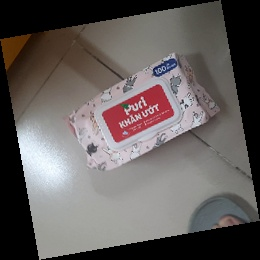Puri hong: (64, 52, 220, 172)
